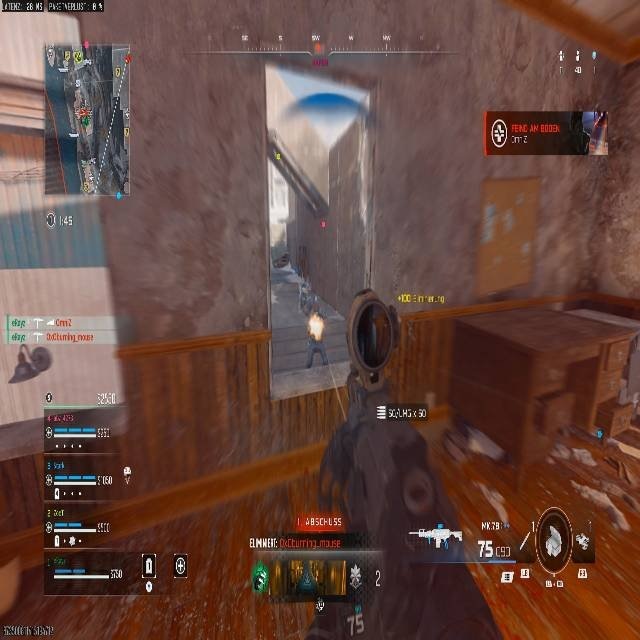player: (305, 315, 330, 369)
